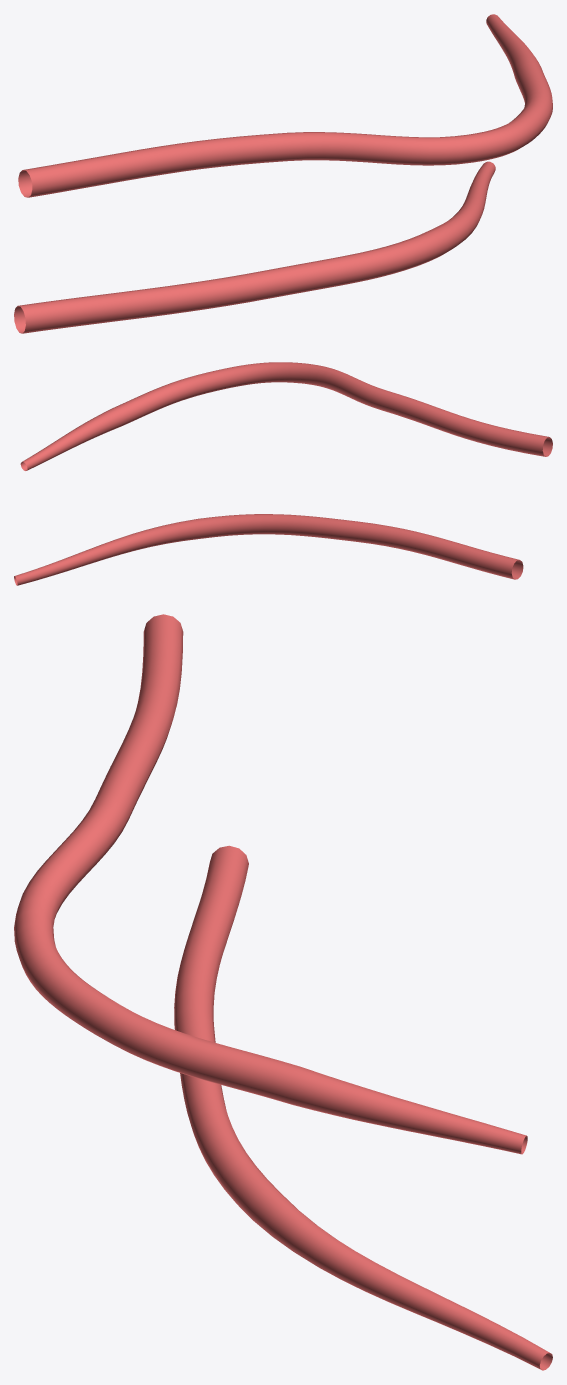
Rendered from Medial_pontine_branches_basilar_artery_left.glb.
The picture shows the model from 3 angles, top to bottom: view 1: azimuth 30°, elevation 25°; view 2: azimuth 150°, elevation 25°; view 3: azimuth 270°, elevation 25°; orthographic projection. The views are drawn at different scales.
Parts seen in each view (by area): view 1: Medial_pontine_branches_of_basilar_artery.l_BezierCurve.240; view 2: Medial_pontine_branches_of_basilar_artery.l_BezierCurve.240; view 3: Medial_pontine_branches_of_basilar_artery.l_BezierCurve.240.
Boxes of the visible parts, bbox=[...] form: Medial_pontine_branches_of_basilar_artery.l_BezierCurve.240: bbox=[14, 14, 552, 333]; Medial_pontine_branches_of_basilar_artery.l_BezierCurve.240: bbox=[14, 362, 552, 585]; Medial_pontine_branches_of_basilar_artery.l_BezierCurve.240: bbox=[14, 614, 552, 1370].
Size of the model in its own units: 0.00986 by 0.0039 by 0.00546.
